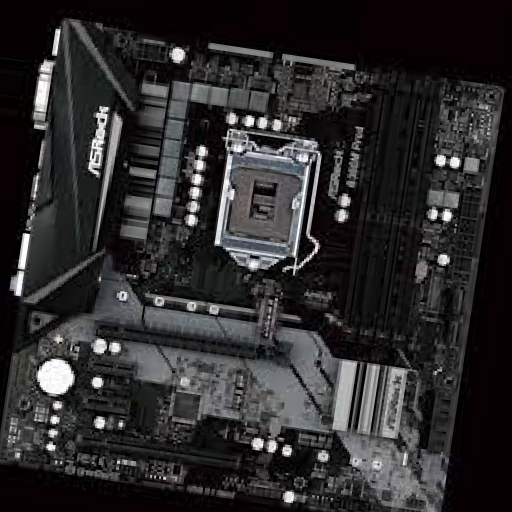CPU: (215, 129, 307, 276)
GPU: (75, 430, 270, 481), (93, 321, 294, 370)
MOTHERBOARD: (1, 21, 499, 511)
RAM: (344, 69, 445, 352)
SSD: (257, 293, 279, 349), (228, 368, 252, 411)
